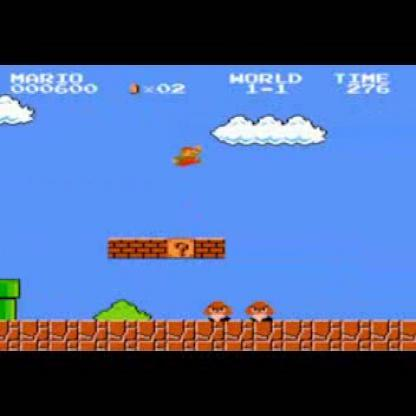Goomba: (204, 298, 238, 320), (249, 295, 276, 321)
